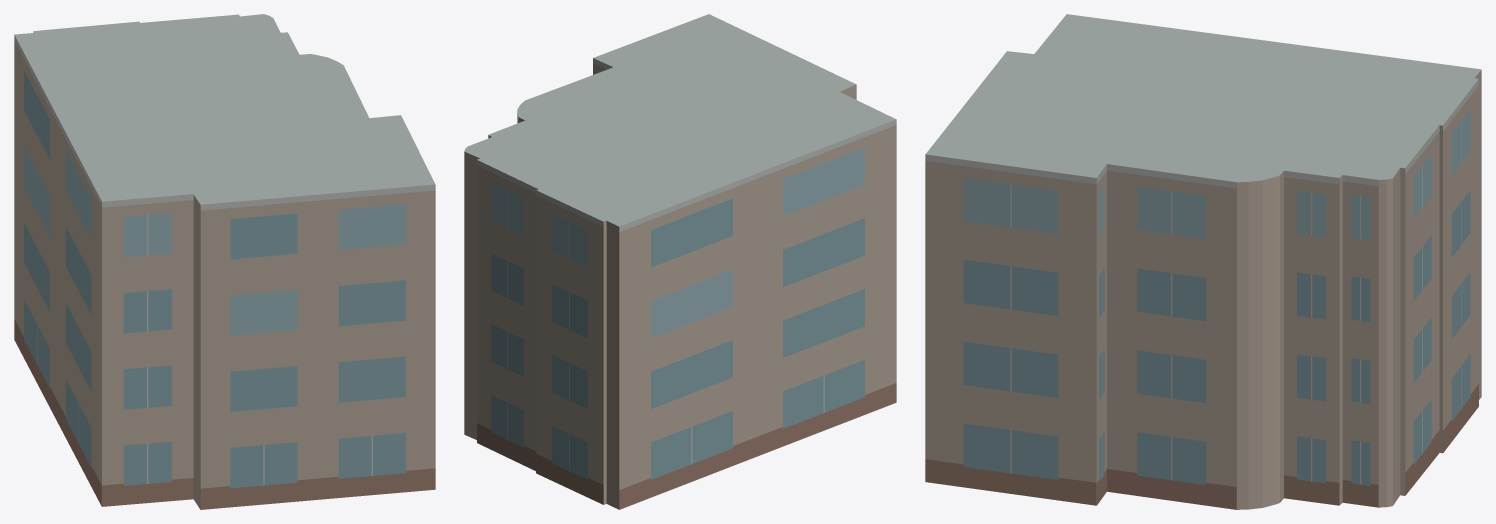
Rendered from survey-upis-32804183.glb.
3 renders of one model, left to right at view 1: azimuth 30°, elevation 25°; view 2: azimuth 150°, elevation 25°; view 3: azimuth 270°, elevation 25°, orthographic. The views are drawn at different scales.
Visible parts, largest first — view 1: survey-upis-32804183.tmp; view 2: survey-upis-32804183.tmp; view 3: survey-upis-32804183.tmp.
Boxes of the visible parts, bbox=[...] form: survey-upis-32804183.tmp: bbox=[14, 14, 435, 509]; survey-upis-32804183.tmp: bbox=[464, 14, 896, 509]; survey-upis-32804183.tmp: bbox=[925, 14, 1481, 509].
Size of the model in its own units: 13.89 by 12.6 by 19.4.
